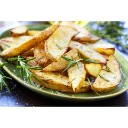frenchfries: (4, 23, 121, 91)
